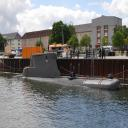submarine: (17, 54, 121, 90)
